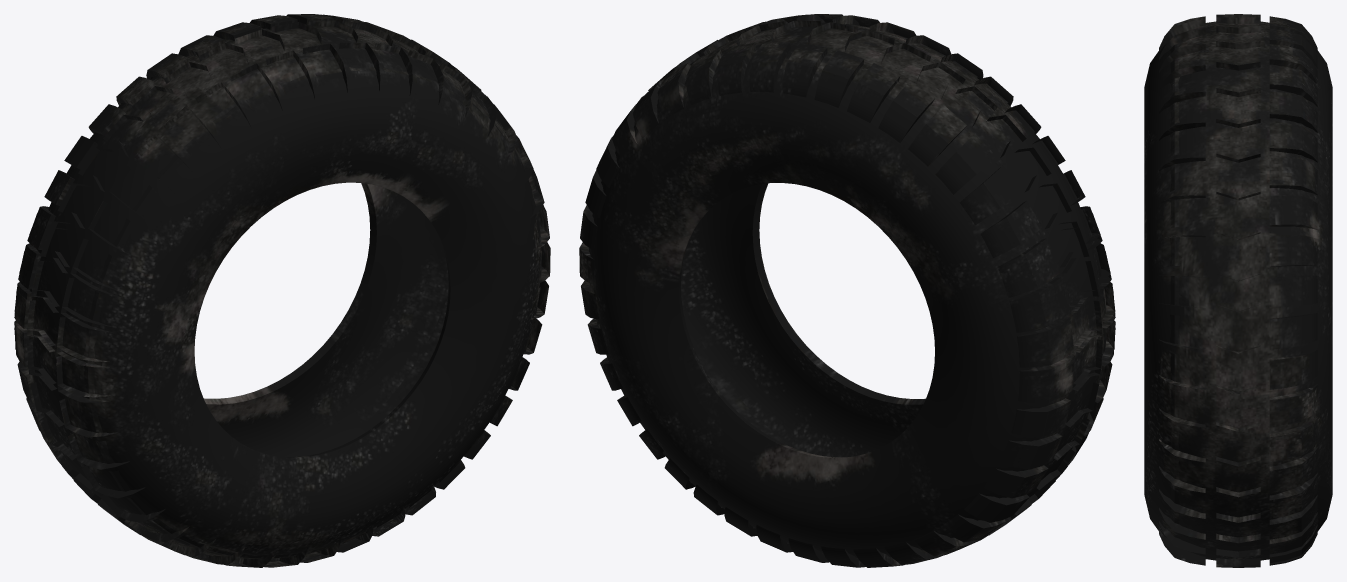
File: tire.gltf
The picture shows the model from 3 angles, left to right: view 1: azimuth 30°, elevation 25°; view 2: azimuth 150°, elevation 25°; view 3: azimuth 270°, elevation 25°; orthographic projection. The views are drawn at different scales.
Size of the model in its own units: 104 by 104 by 35.47.
Materials: 1 (1 with a texture image).
